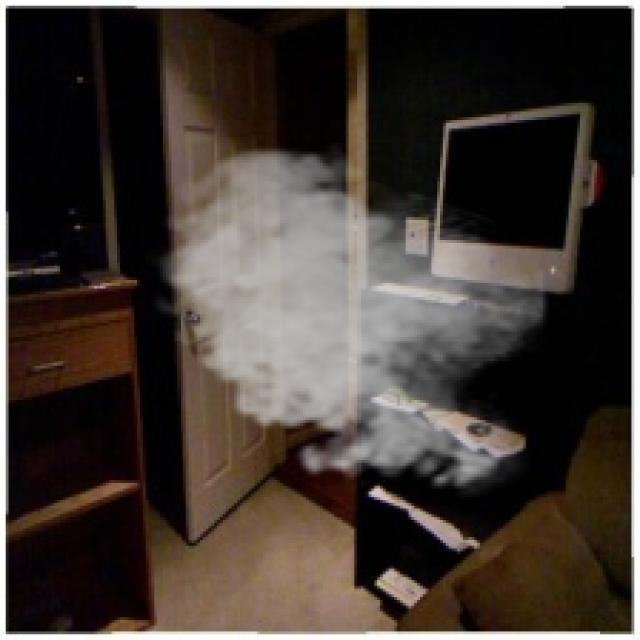smoke: (146, 140, 548, 500)
